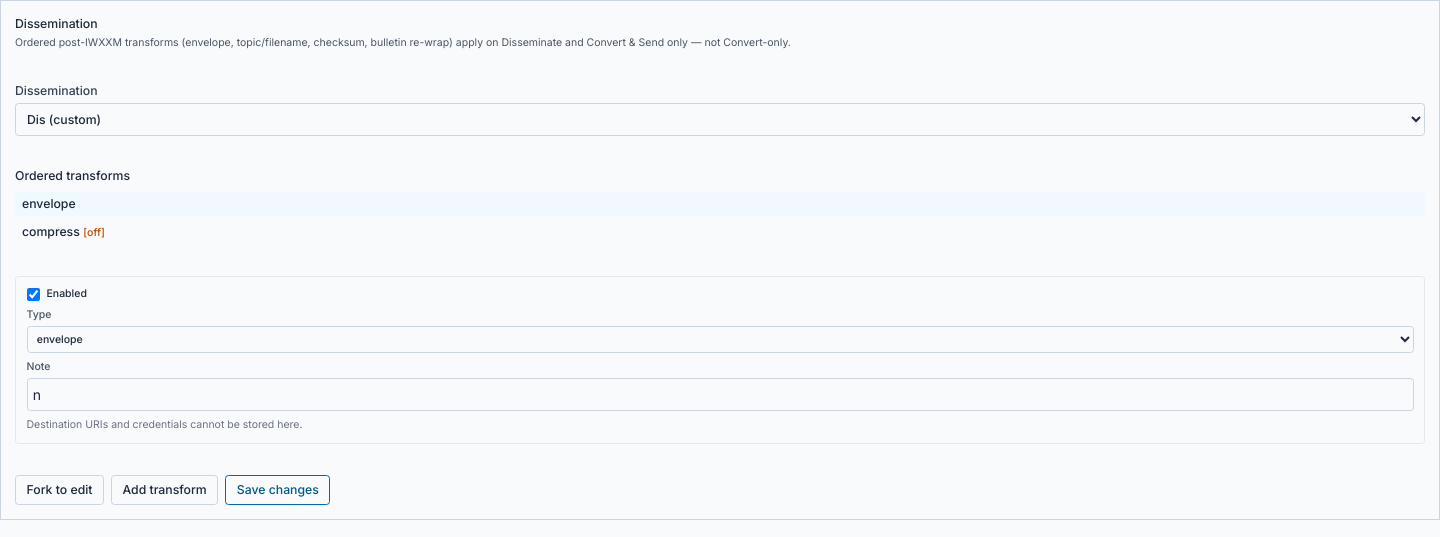
Test: EVWB P1–P4 coverage fills › covers dissemination transform select/type/note and save/fork failures
Click the button with test id "dissemination-transform-compress" at x=51, y=232, box [15,220,1425,244]
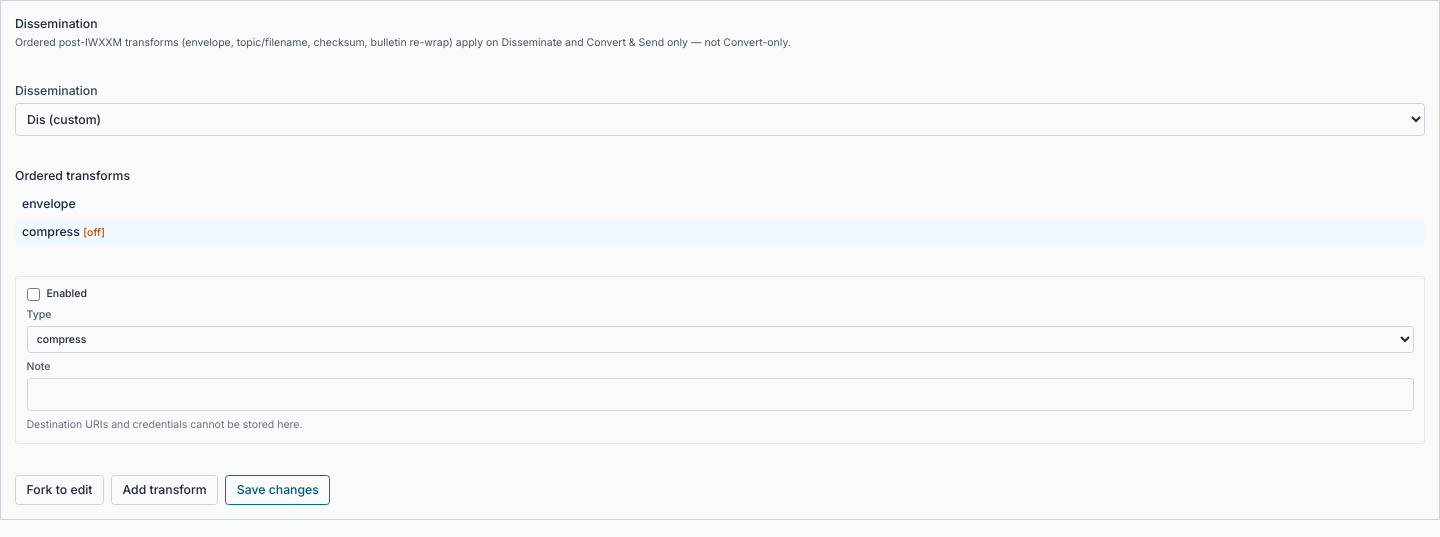
Expected: the checkbox with test id "dissemination-transform-enabled" is not checked, [26,288,40,300]
Select "sign-xml" in the dropdown with test id "dissemination-transform-type" at x=720, y=339, box [26,326,1414,353]
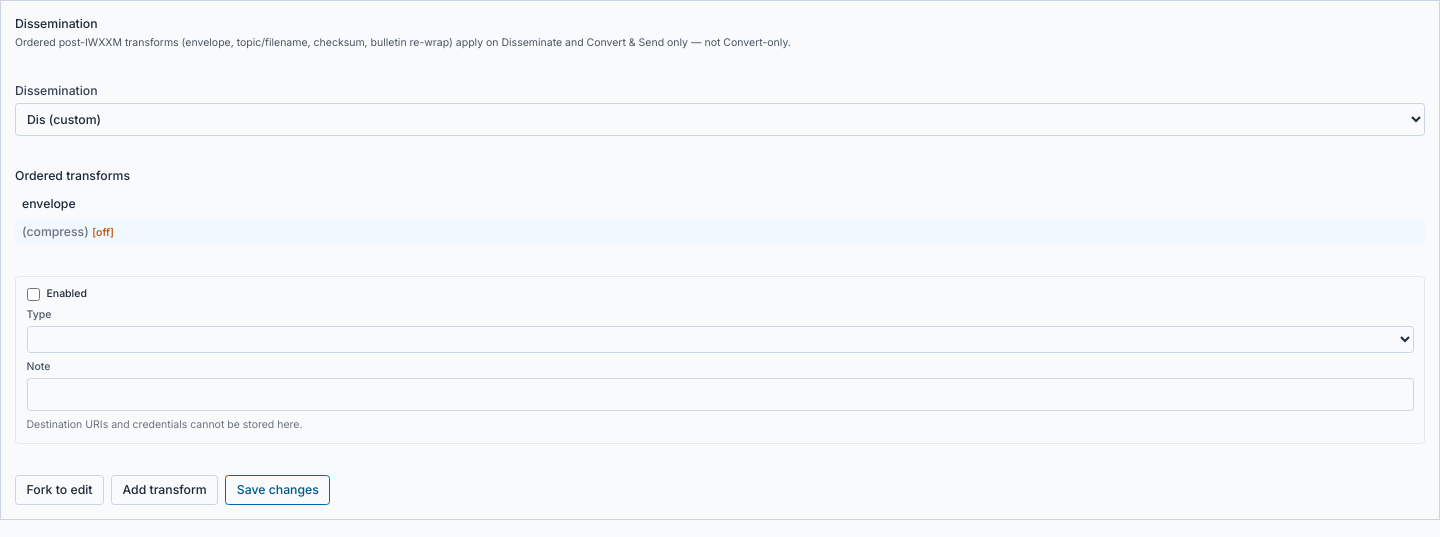
Type "updated" into the field with test id "dissemination-transform-note" at x=720, y=394, box [26,378,1414,411]
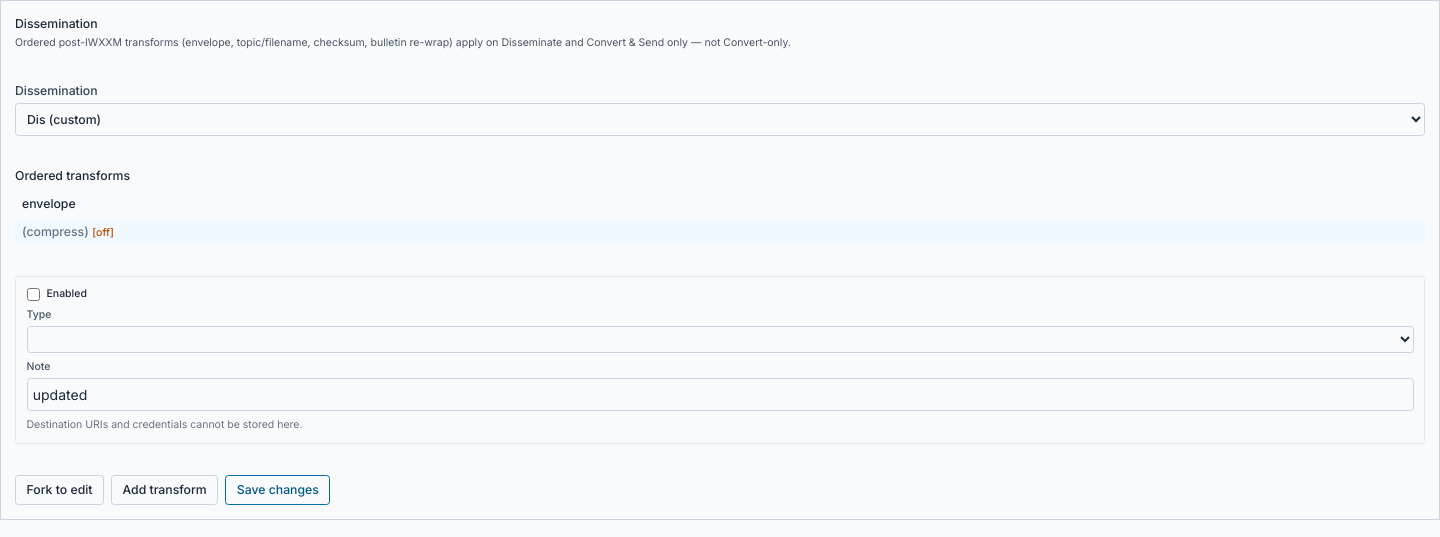
Click the button with test id "dissemination-rules-fork" at x=60, y=490, box [15,475,104,505]
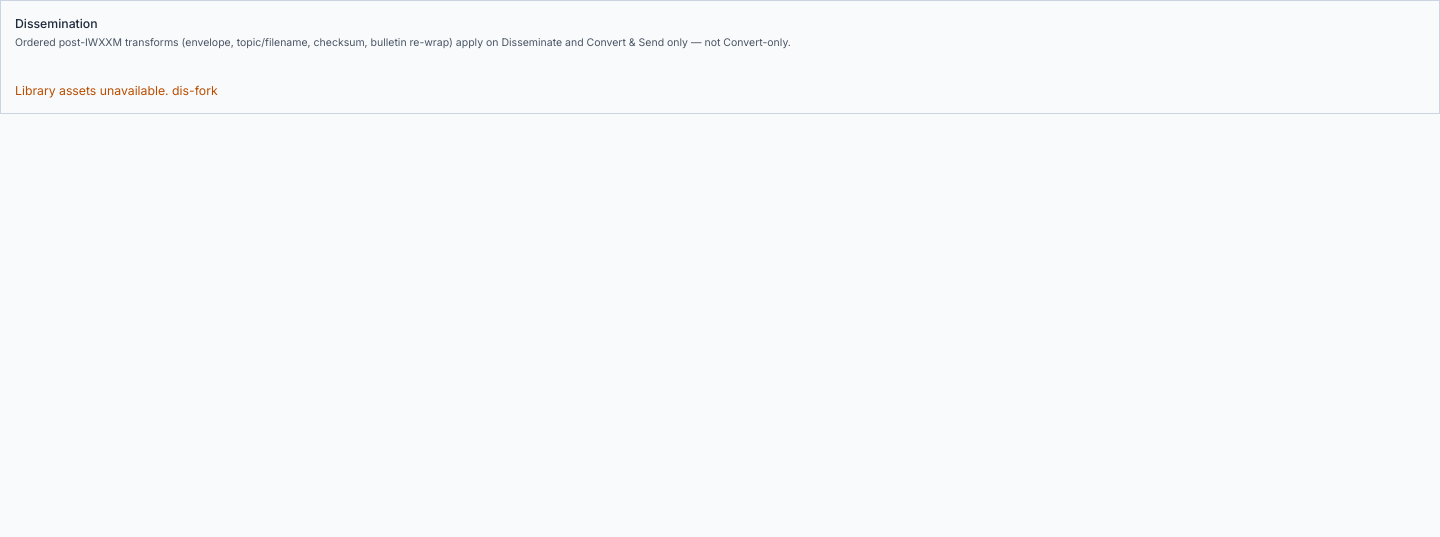
Expected: the text with test id "dissemination-panel-error" shows "dis-fork", [172,82,218,98]
